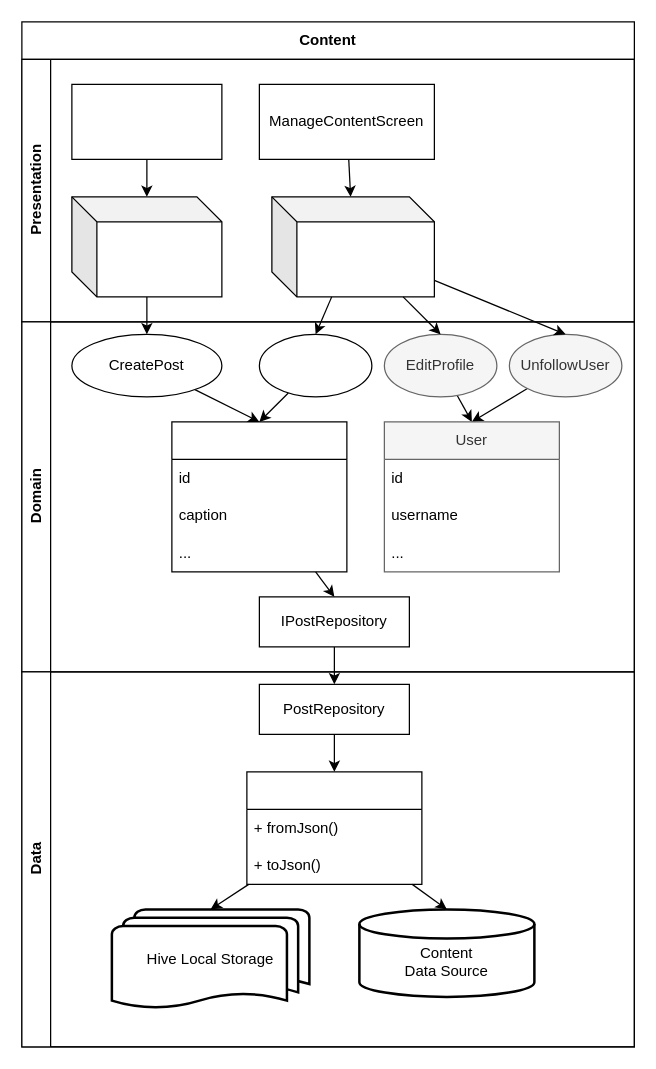
Image size: 656x1069. Some labels were removed from this diagram. The shapes that lost their labels are listed below. From the top down, each one's box as (x1, y1, x2, y2) in pixels, then its label:
(71, 83, 222, 159): AddContentScreen
(71, 196, 222, 297): Add Content Cubit
(271, 196, 434, 297): Manage Content Block
(258, 333, 372, 397): DeletePost
(171, 421, 347, 572): Post
(246, 771, 422, 884): PostModel
